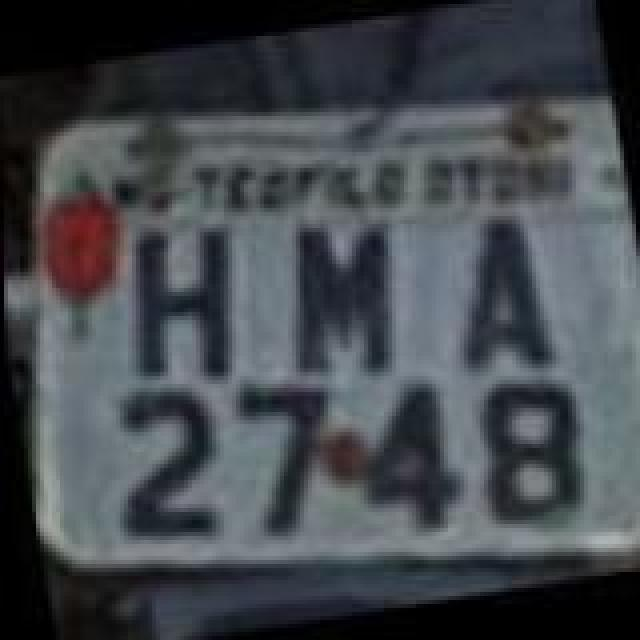2: (102, 378, 222, 546)
4: (348, 372, 472, 536)
7: (226, 372, 338, 536)
8: (468, 364, 592, 532)
A: (436, 208, 556, 380)
H: (112, 214, 248, 390)
M: (282, 212, 414, 380)
